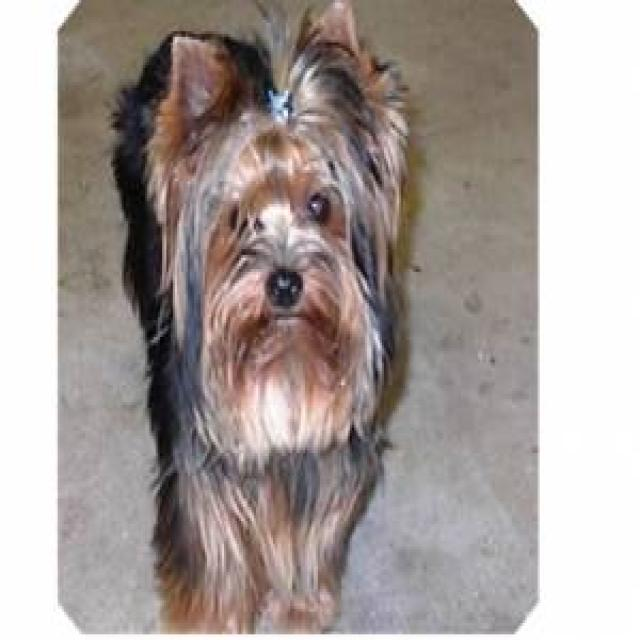dog-yorkshire_terrier: (105, 3, 412, 634)
